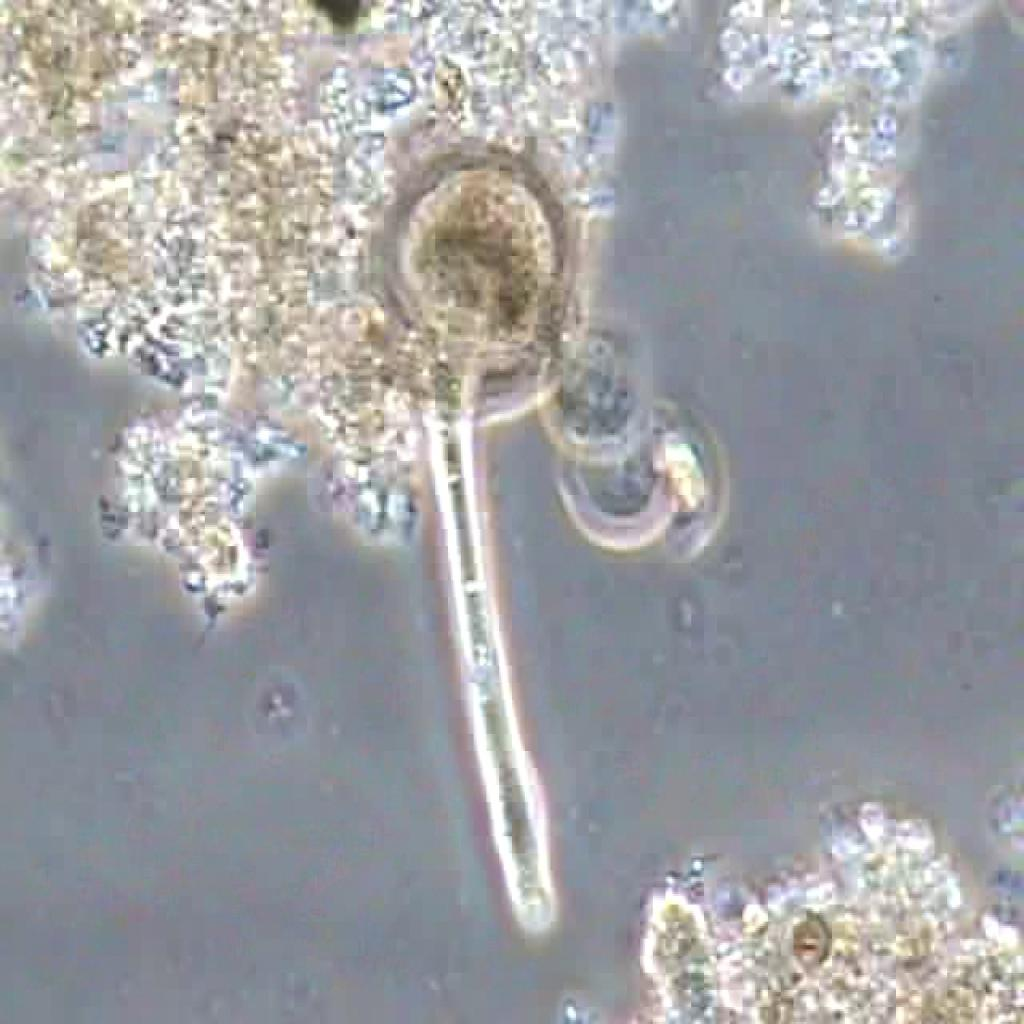Arcella: (352, 134, 589, 950)
